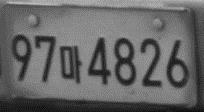2: (139, 36, 162, 87)
4: (86, 36, 111, 85)
6: (165, 38, 189, 88)
7: (34, 34, 56, 82)
8: (113, 37, 136, 85)
9: (10, 33, 32, 80)
마: (58, 44, 82, 84)
